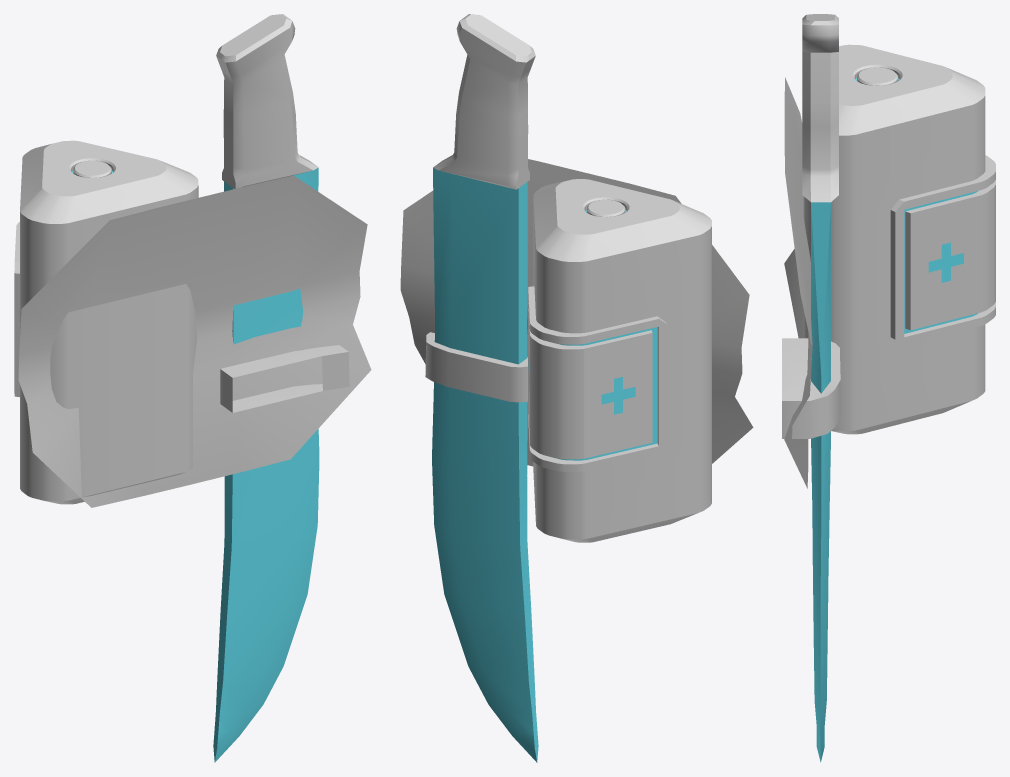
Rendered from Mod_BackPlate_Recon3.fbx.
3 renders of one model, left to right at view 1: azimuth 30°, elevation 25°; view 2: azimuth 150°, elevation 25°; view 3: azimuth 270°, elevation 25°, orthographic. The views are drawn at different scales.
Visible parts, largest first — view 1: Mod_BackPlate_Recon3; view 2: Mod_BackPlate_Recon3; view 3: Mod_BackPlate_Recon3.
Part boxes in pixels (bbox=[...]): Mod_BackPlate_Recon3: bbox=[14, 14, 371, 762]; Mod_BackPlate_Recon3: bbox=[400, 14, 753, 762]; Mod_BackPlate_Recon3: bbox=[782, 14, 995, 762].
Size of the model in its own units: 326 by 658 by 164.
